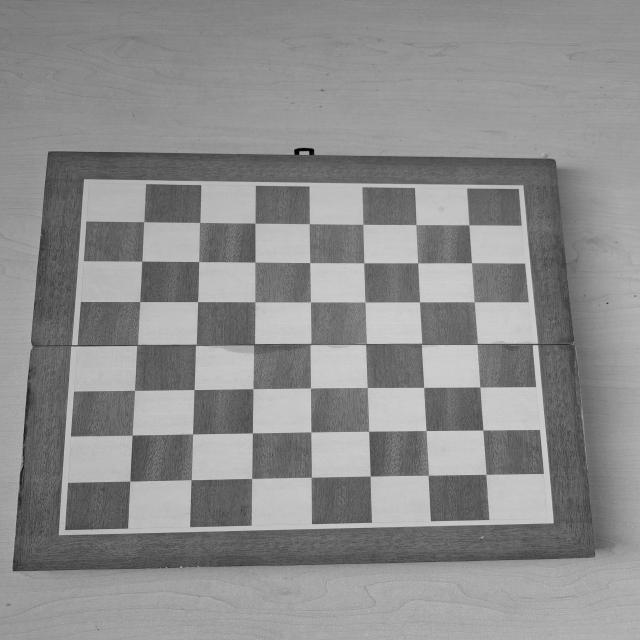chess-table-corners: (54, 521, 78, 539), (80, 177, 100, 190), (509, 183, 527, 196)
